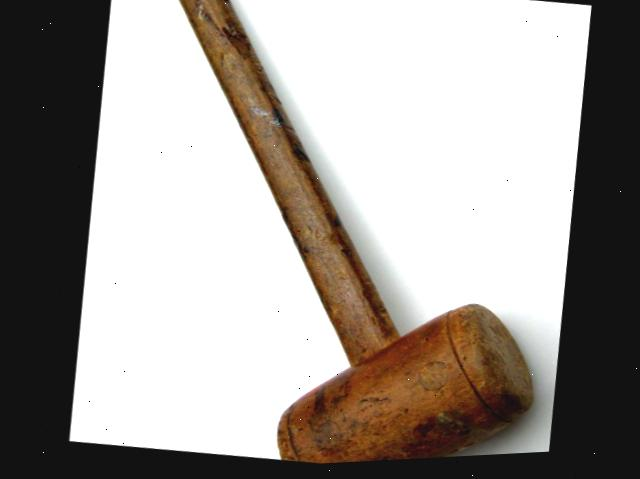hammer: (86, 0, 592, 475)
